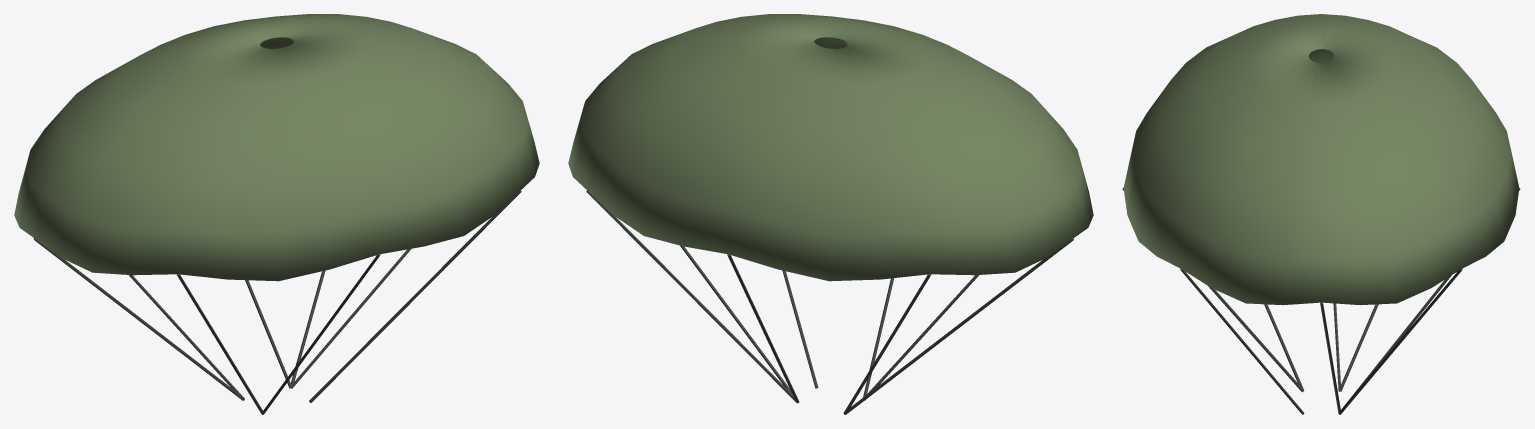
File: pwr_canopy.gltf
3 renders of one model, left to right at view 1: azimuth 30°, elevation 25°; view 2: azimuth 150°, elevation 25°; view 3: azimuth 270°, elevation 25°, orthographic. The views are drawn at different scales.
Parts seen in each view (by area): view 1: SM_PWR_Parachute; view 2: SM_PWR_Parachute; view 3: SM_PWR_Parachute.
Part boxes in pixels (x1,y1,x2,y2): SM_PWR_Parachute: (14,14,539,414); SM_PWR_Parachute: (568,14,1093,414); SM_PWR_Parachute: (1122,14,1520,414).
Size of the model in its own units: 4.12 by 2.91 by 3.02.
